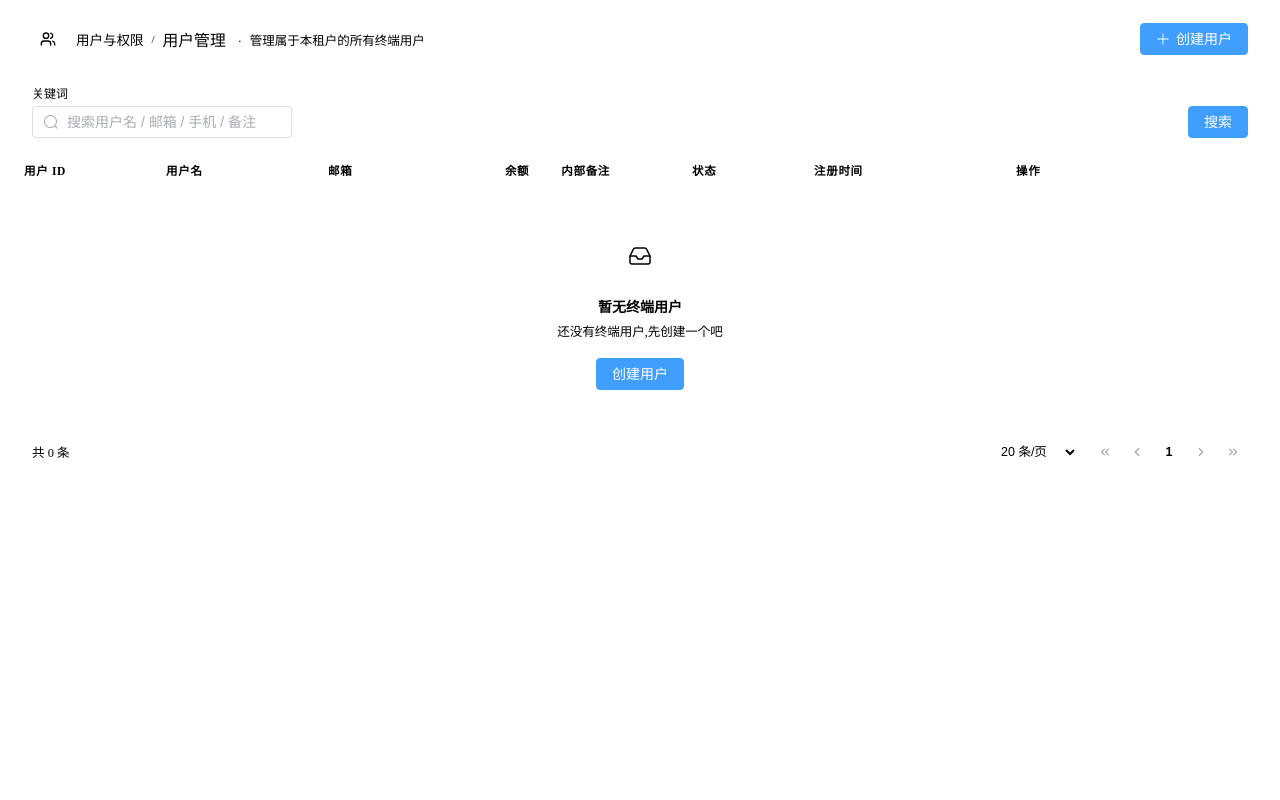
Test: tenant user management › opens the create-user dialog
Click the button with test id "create-user-button" at (1194, 39), box [1140,23,1248,55]
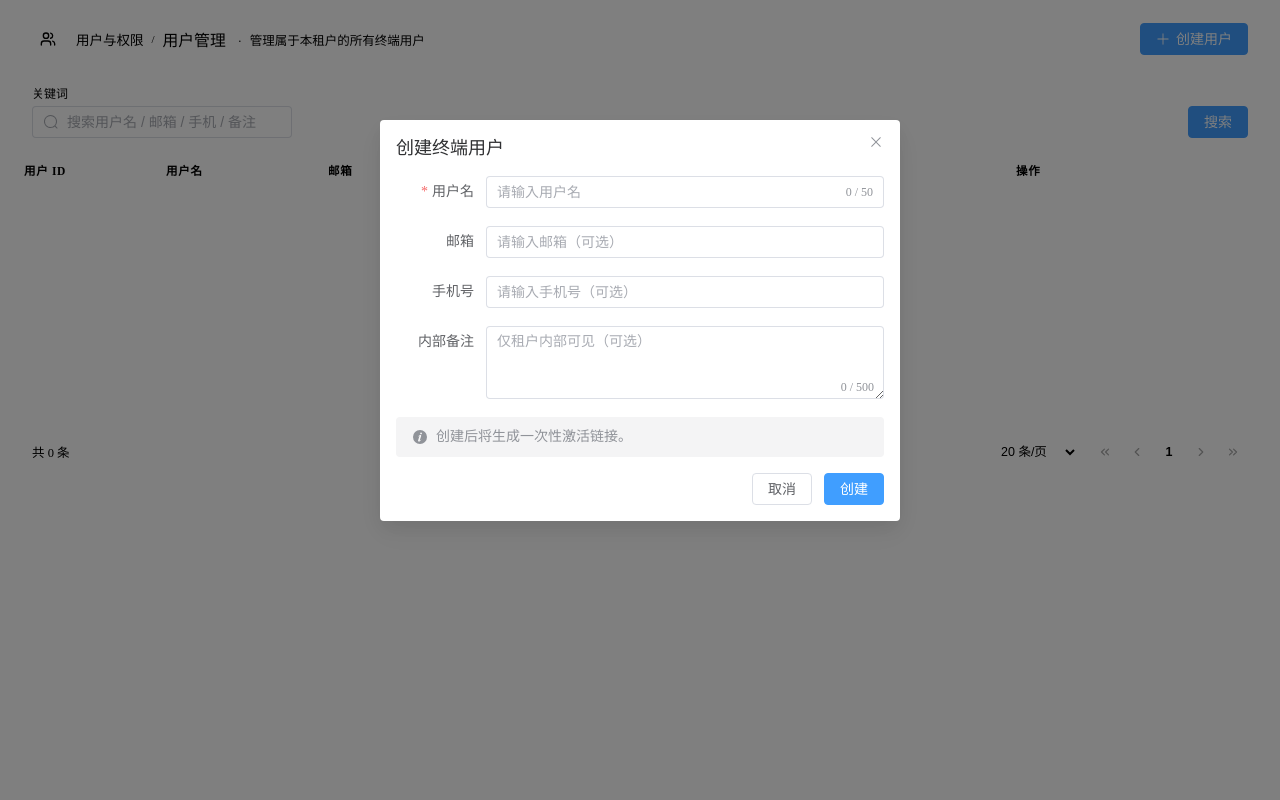
Expected: the text "创建终端用户" is shown, [396,138,504,158]
